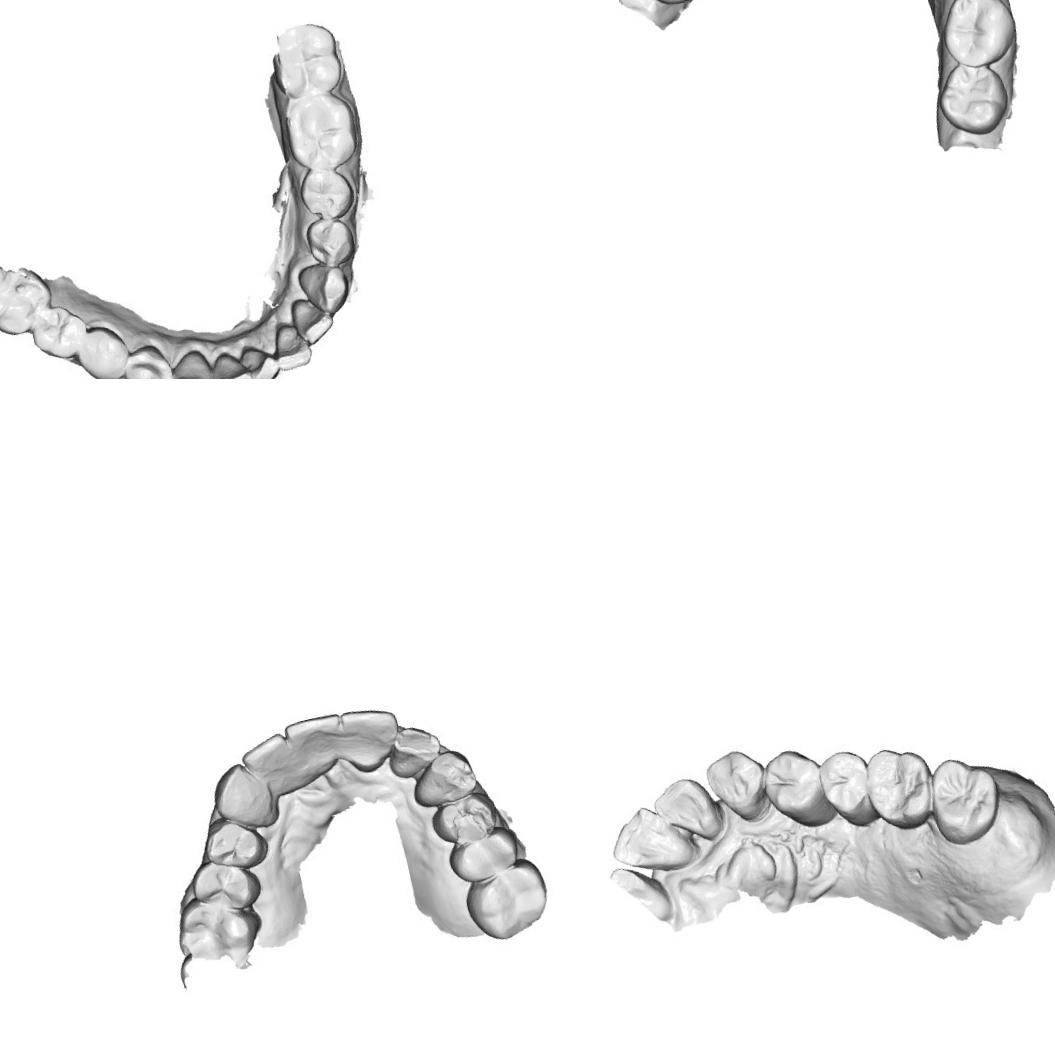canine: (700, 742, 775, 830), (210, 758, 277, 828), (410, 756, 473, 806), (300, 260, 353, 312), (161, 347, 214, 379)
incisor: (602, 794, 698, 884), (647, 771, 722, 852), (280, 710, 350, 782), (337, 700, 406, 772), (236, 732, 302, 800), (387, 717, 445, 778), (267, 320, 313, 369), (291, 292, 335, 342), (238, 341, 280, 379), (205, 347, 254, 379)
molar: (258, 9, 358, 111), (918, 747, 1010, 852), (856, 737, 944, 838), (931, 55, 1016, 142), (282, 84, 360, 175), (176, 894, 264, 973), (932, 0, 1023, 74), (466, 860, 545, 936), (0, 255, 54, 347), (28, 300, 87, 362)
premolar: (756, 741, 839, 837), (814, 744, 880, 829), (450, 826, 525, 886), (190, 857, 260, 920), (200, 812, 266, 872), (430, 794, 498, 844), (74, 324, 132, 379), (300, 165, 353, 219), (306, 216, 358, 270), (119, 345, 175, 379)
